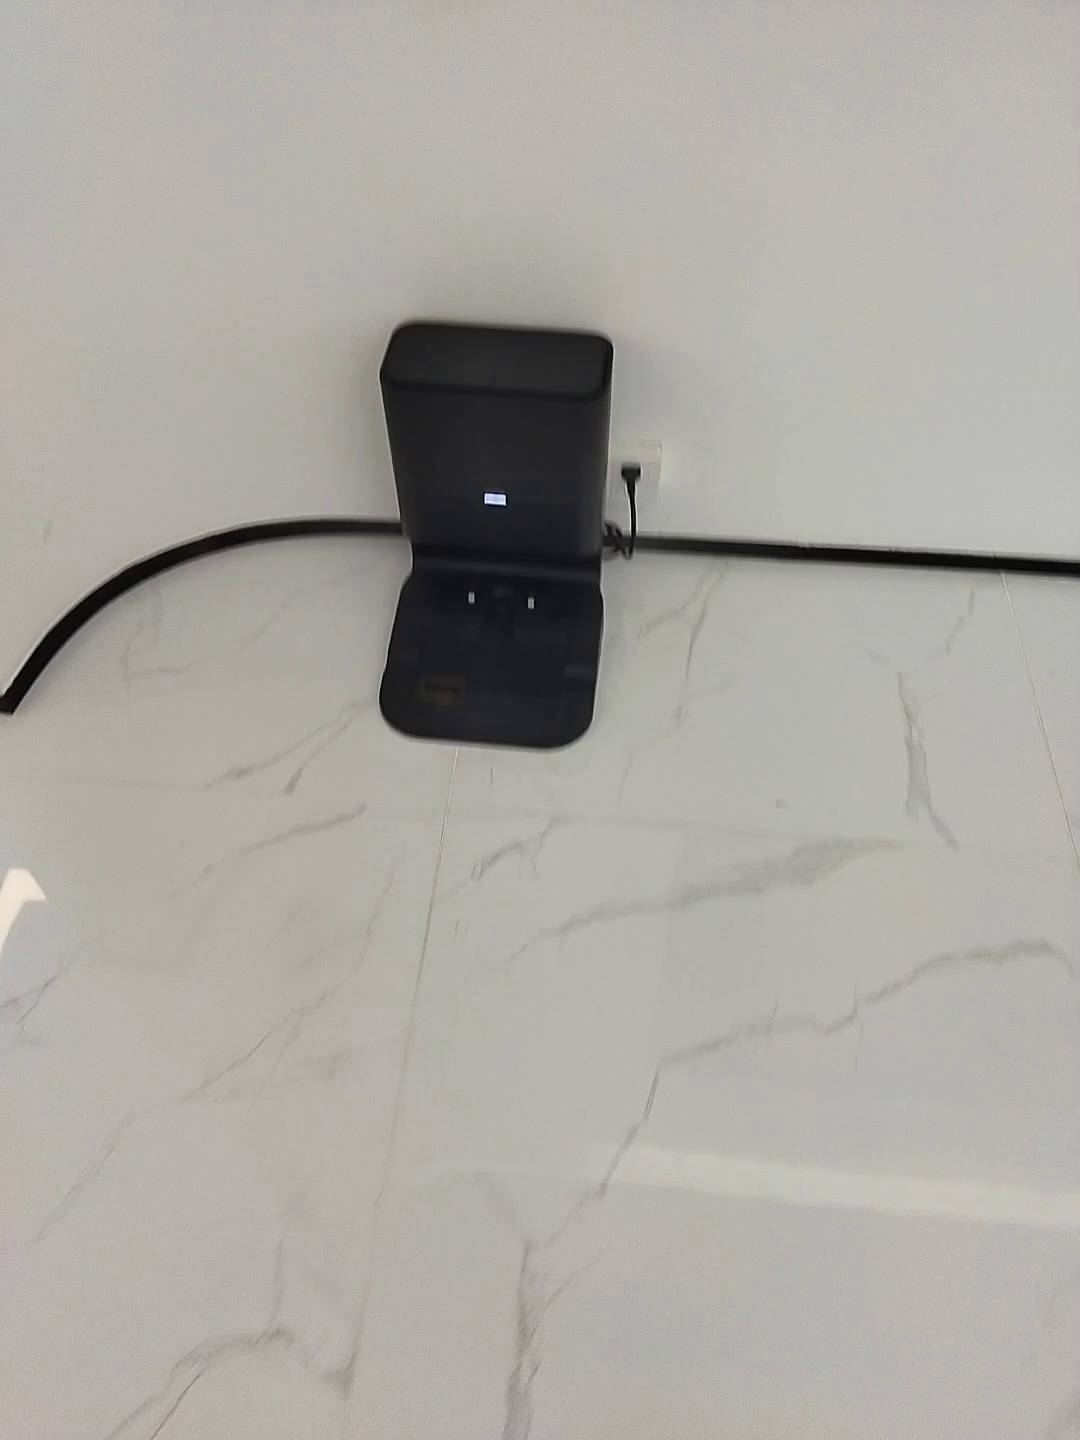dust collecting barrel: (380, 320, 616, 749)
